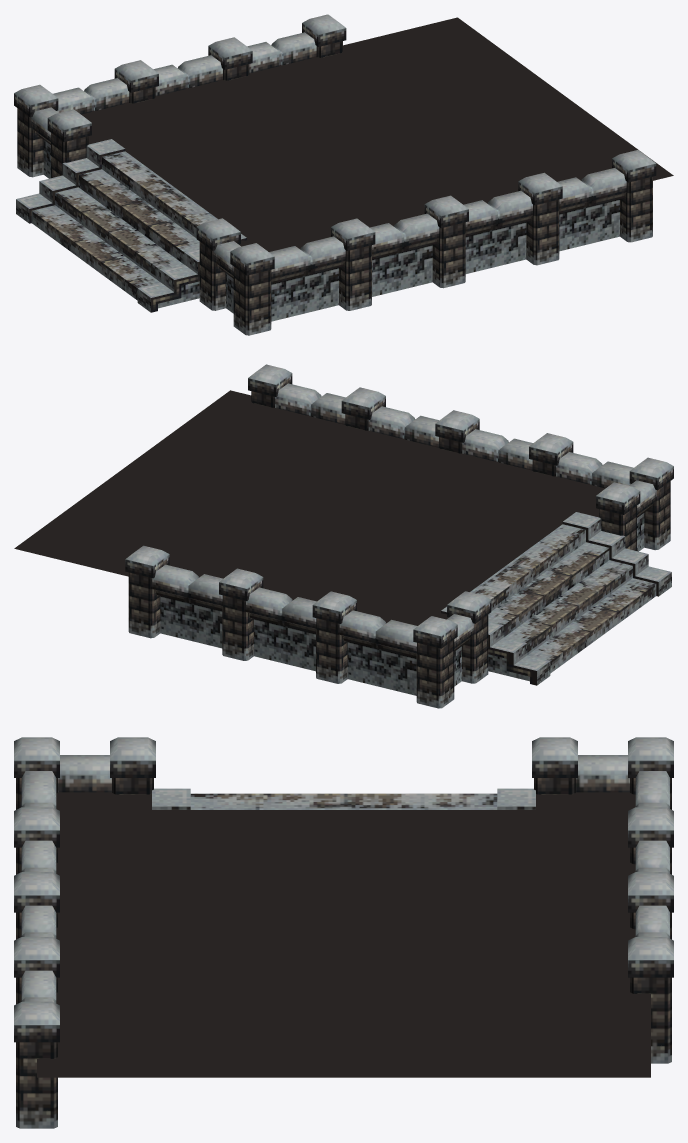
Rendered from EnvBdgMD_Castle_Raimei_A_Entrance_A.FBX.
3 renders of one model, top to bottom at view 1: azimuth 30°, elevation 25°; view 2: azimuth 150°, elevation 25°; view 3: azimuth 270°, elevation 25°, orthographic. The views are drawn at different scales.
Parts seen in each view (by area): view 1: EnvBdgMD_Castle_Raimei_A_Entrance_A; view 2: EnvBdgMD_Castle_Raimei_A_Entrance_A; view 3: EnvBdgMD_Castle_Raimei_A_Entrance_A.
Boxes of the visible parts, x1,y1,x2,y2 form: EnvBdgMD_Castle_Raimei_A_Entrance_A: (14,14,673,335); EnvBdgMD_Castle_Raimei_A_Entrance_A: (14,364,673,708); EnvBdgMD_Castle_Raimei_A_Entrance_A: (14,737,673,1128).
Size of the model in its own units: 1030 by 160 by 860.
